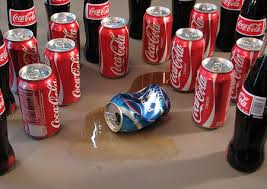can: (85, 81, 182, 134), (187, 48, 239, 133), (19, 56, 67, 144), (48, 29, 86, 104), (92, 13, 130, 74), (138, 7, 173, 71), (177, 28, 202, 96)
